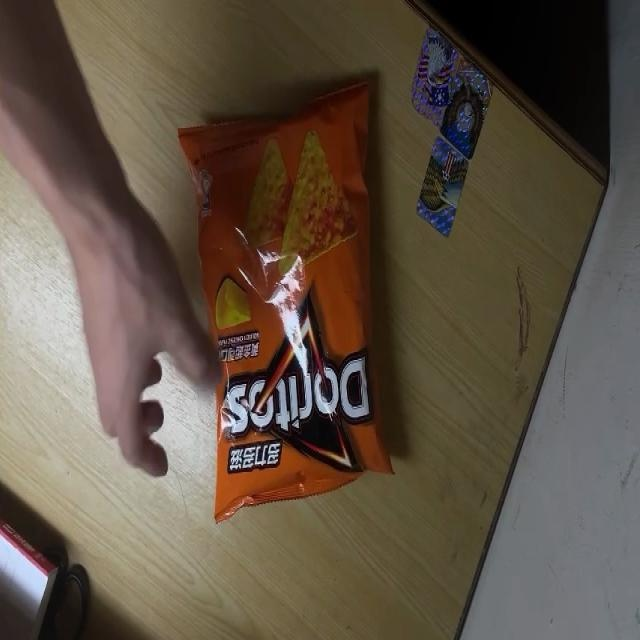Doritos: (178, 72, 395, 520)
